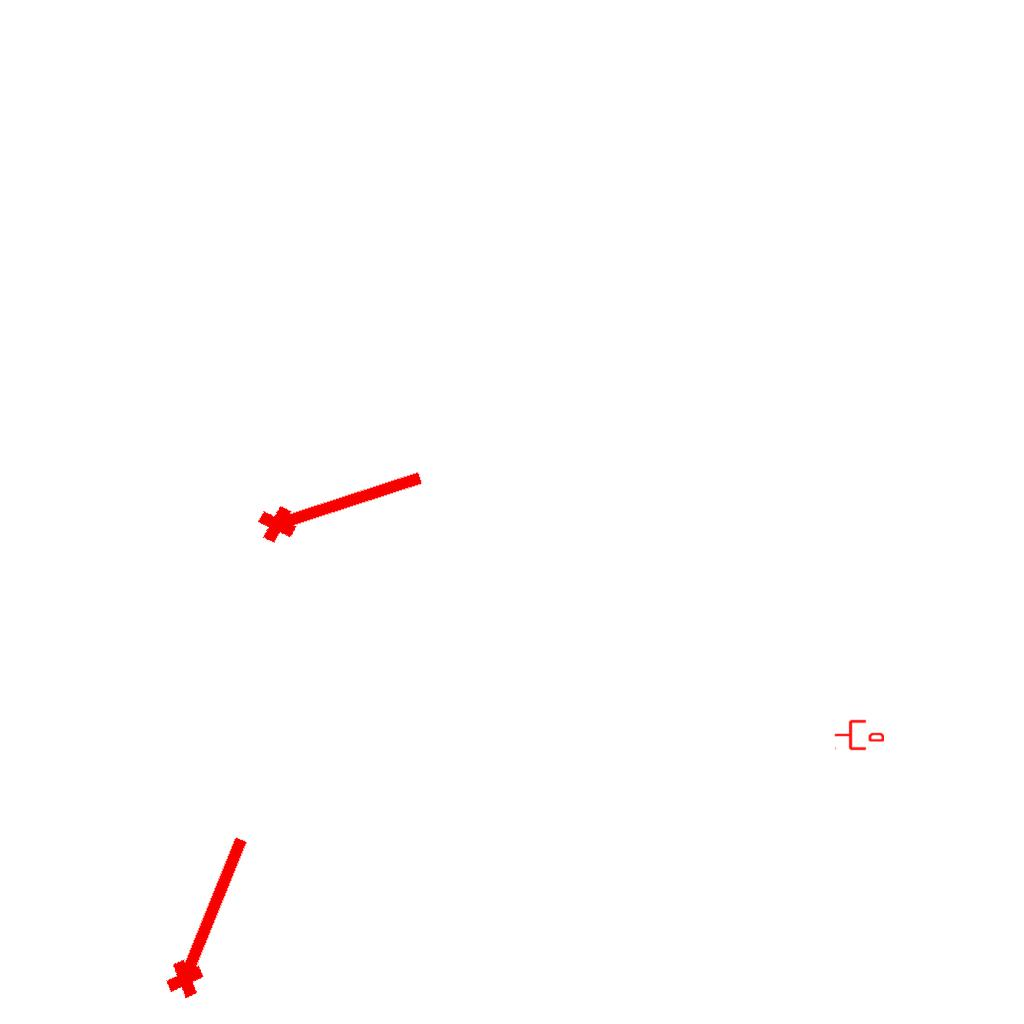ASR_Ansaugoeffnung: (153, 824, 263, 1006), (250, 451, 432, 551)
Datenanschluss_einfach: (834, 718, 884, 752)
